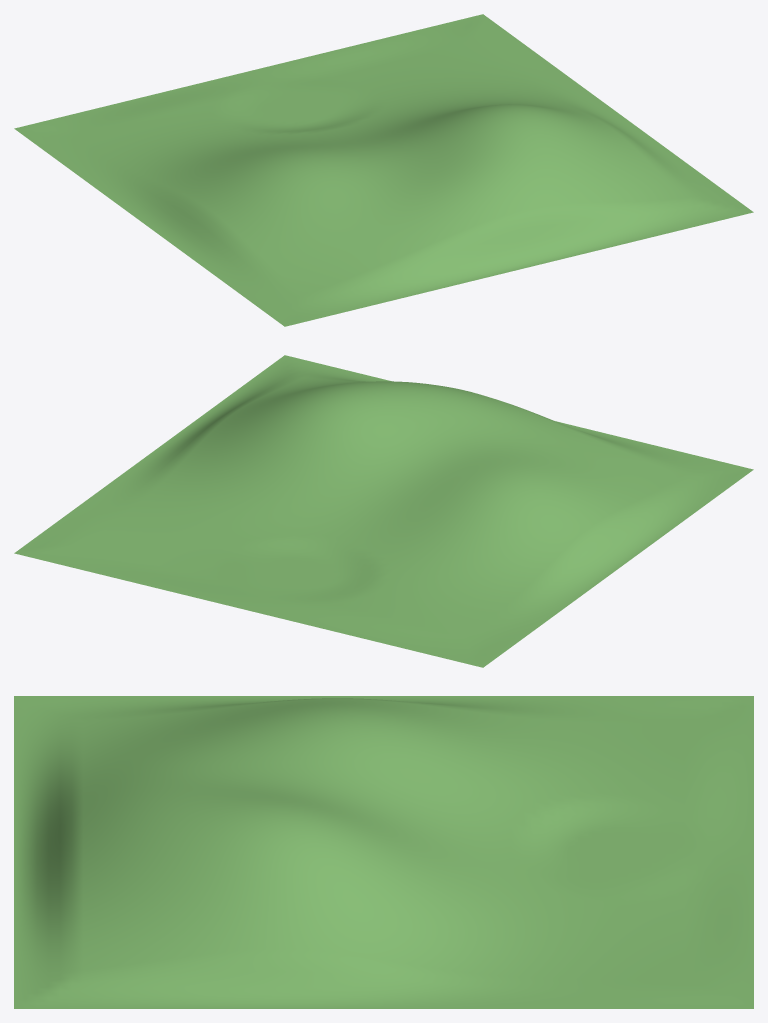
File: Terrain.glb
3 renders of one model, top to bottom at view 1: azimuth 30°, elevation 25°; view 2: azimuth 150°, elevation 25°; view 3: azimuth 270°, elevation 25°, orthographic. The views are drawn at different scales.
Visible parts, largest first — view 1: WalkableHills; view 2: WalkableHills; view 3: WalkableHills.
Part boxes in pixels (bbox=[...]): WalkableHills: bbox=[14, 14, 753, 326]; WalkableHills: bbox=[14, 355, 753, 667]; WalkableHills: bbox=[14, 696, 753, 1008].
Size of the model in its own units: 80 by 10.59 by 80.
